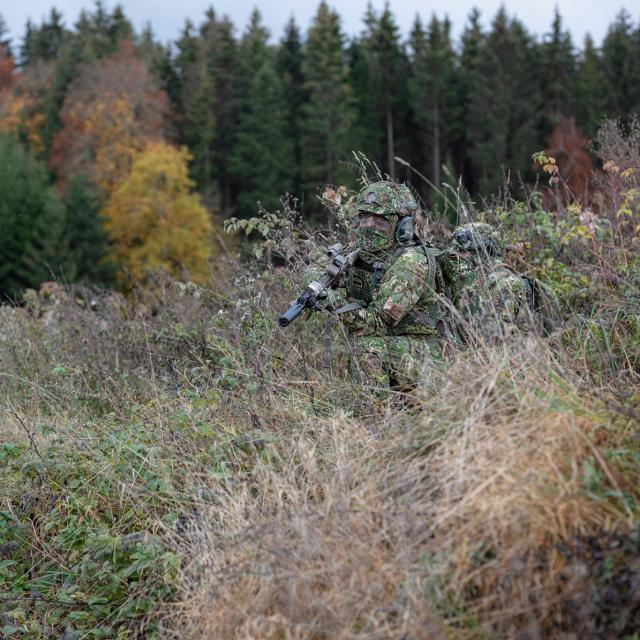Human: (276, 180, 447, 411), (441, 221, 560, 341)
